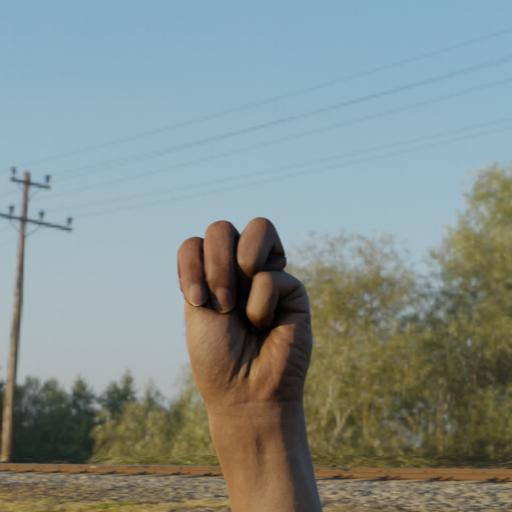M: (117, 177, 364, 472)
